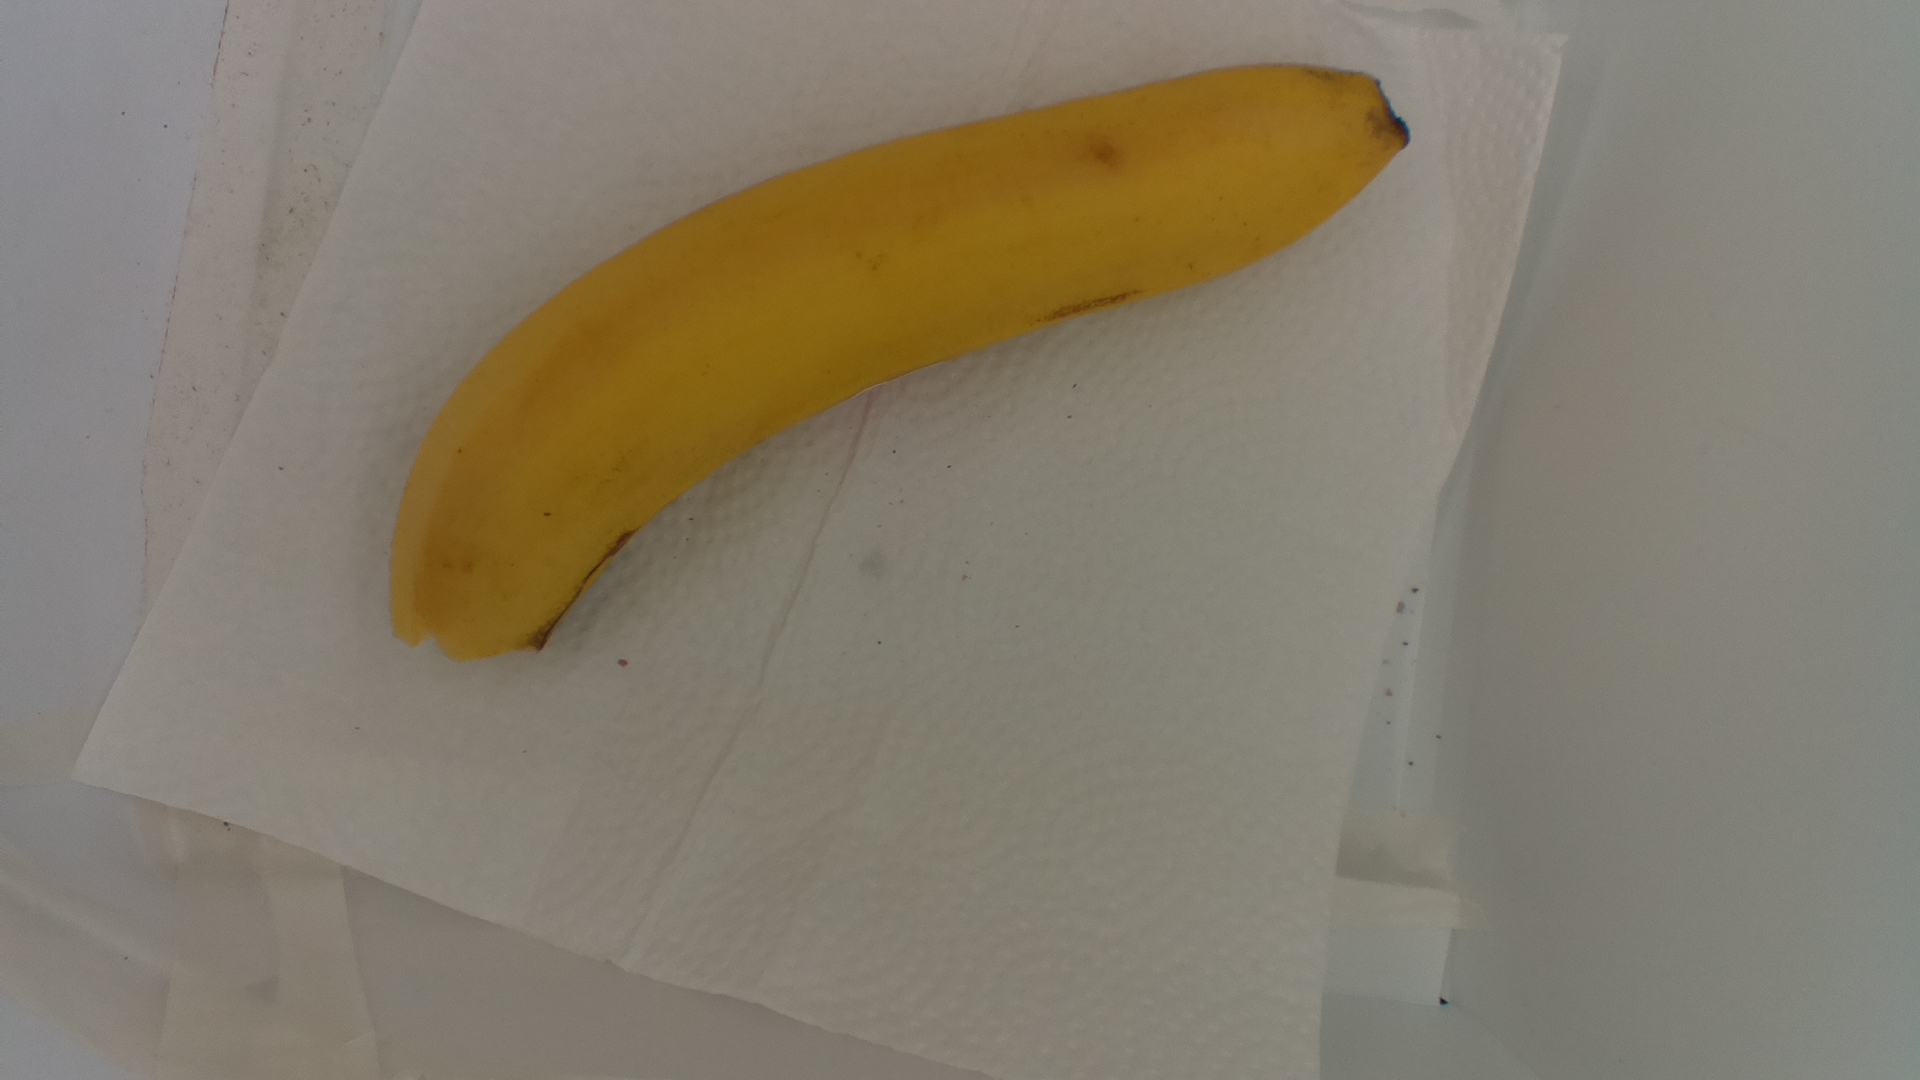fruit: (381, 55, 1408, 667)
